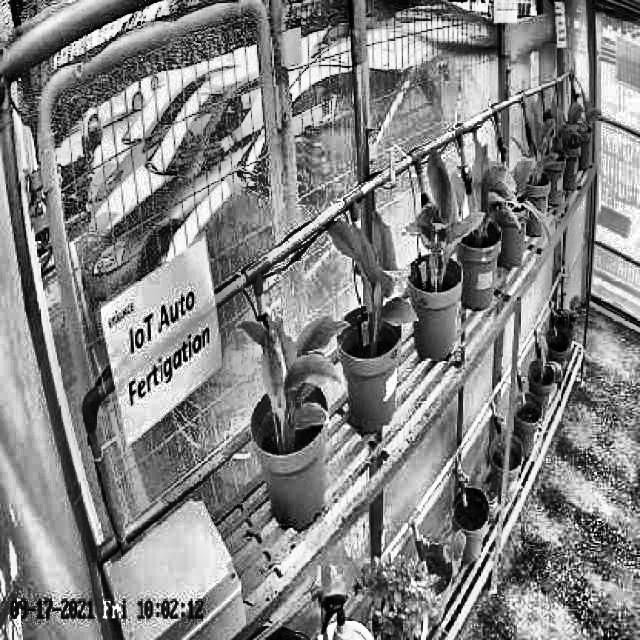plants: (240, 316, 348, 435), (326, 216, 419, 330), (408, 149, 474, 282), (464, 138, 513, 244), (528, 101, 558, 190)
